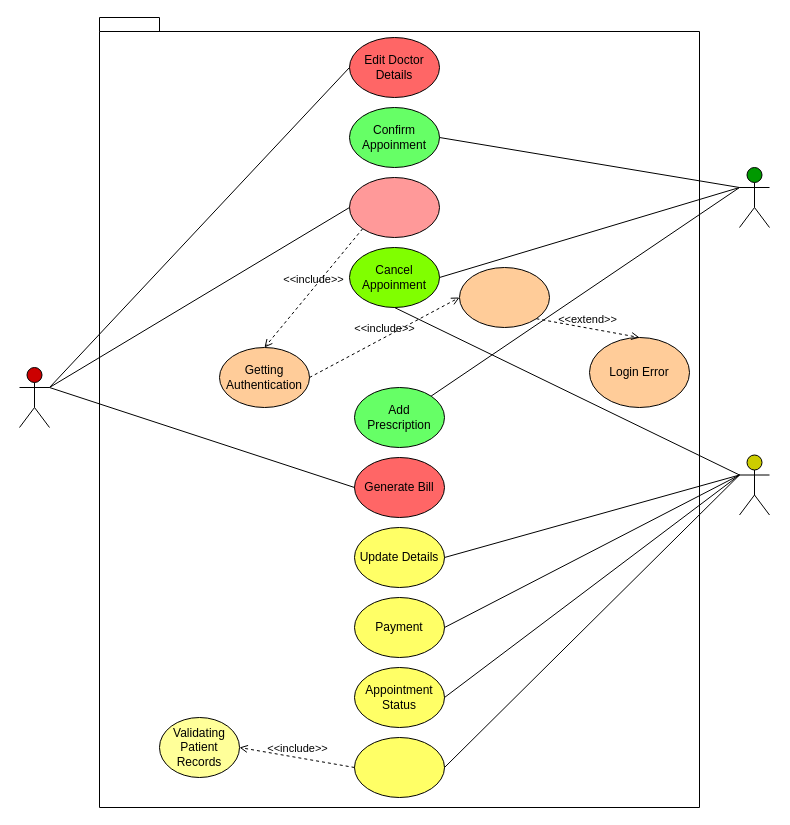
This 790x825 diagram has some shape labels left out. Each missing label, with the centre of its shape:
"Add Doctor" goes at point (394, 207).
"Admin" goes at point (34, 397).
"Doctor" goes at point (754, 197).
"Make Appointment" goes at point (399, 767).
"Patient" goes at point (754, 484).
"Validating User" goes at point (504, 297).
